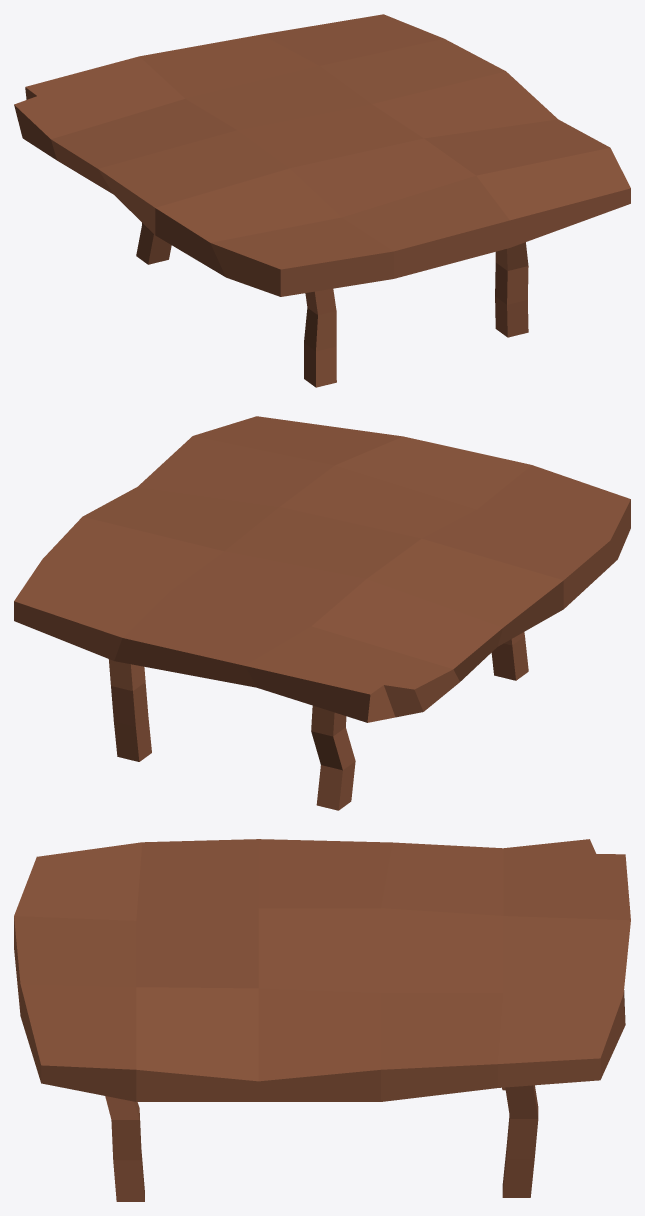
Rendered from Table02.fbx.
The picture shows the model from 3 angles, top to bottom: view 1: azimuth 30°, elevation 25°; view 2: azimuth 150°, elevation 25°; view 3: azimuth 270°, elevation 25°; orthographic projection. The views are drawn at different scales.
Parts seen in each view (by area): view 1: Cube.001; view 2: Cube.001; view 3: Cube.001.
Part boxes in pixels (x1=…): Cube.001: x1=14, y1=14, x2=630, y2=387; Cube.001: x1=14, y1=416, x2=630, y2=810; Cube.001: x1=14, y1=839, x2=630, y2=1201.
Bounding box in the file's own units: 307 × 119 × 347.
